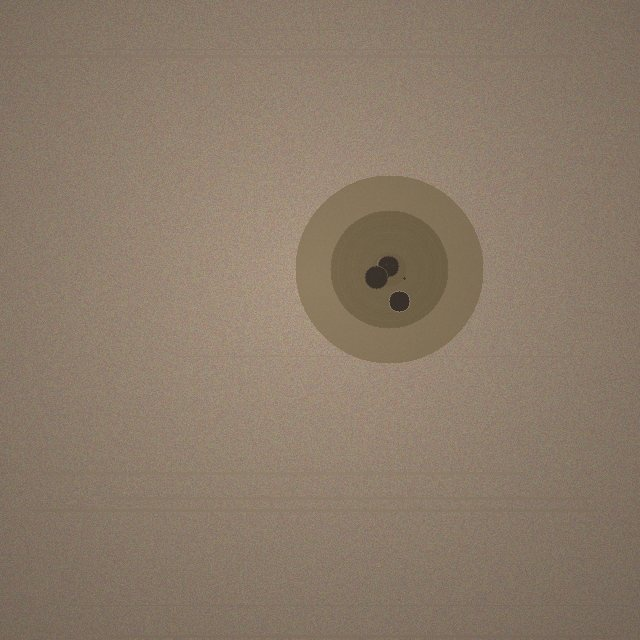shrinkage: (295, 175, 483, 363)
